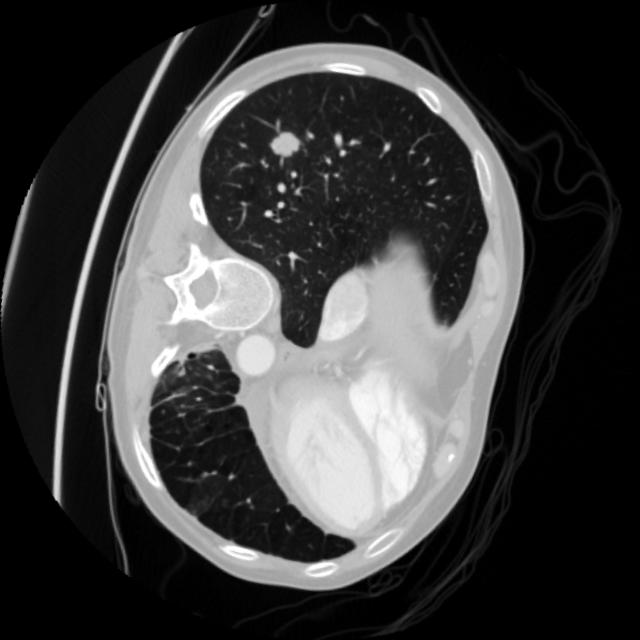nodule: (251, 108, 321, 178)
